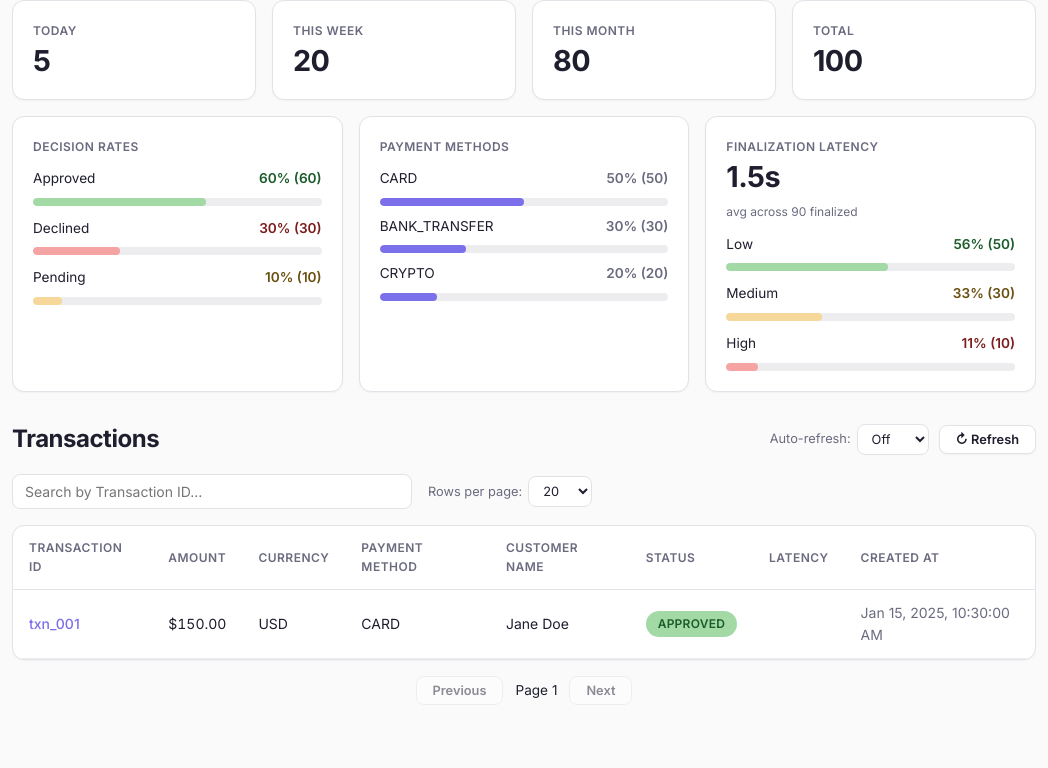
Scenario: TransactionList › shows 'Transaction not found' on 404 search result
Check: the link "txn_001" is shown, box [29,615,80,632]
Type "txn_missing" into the field labelled "Search by Transaction ID" at (212, 492), box [12,474,412,509]
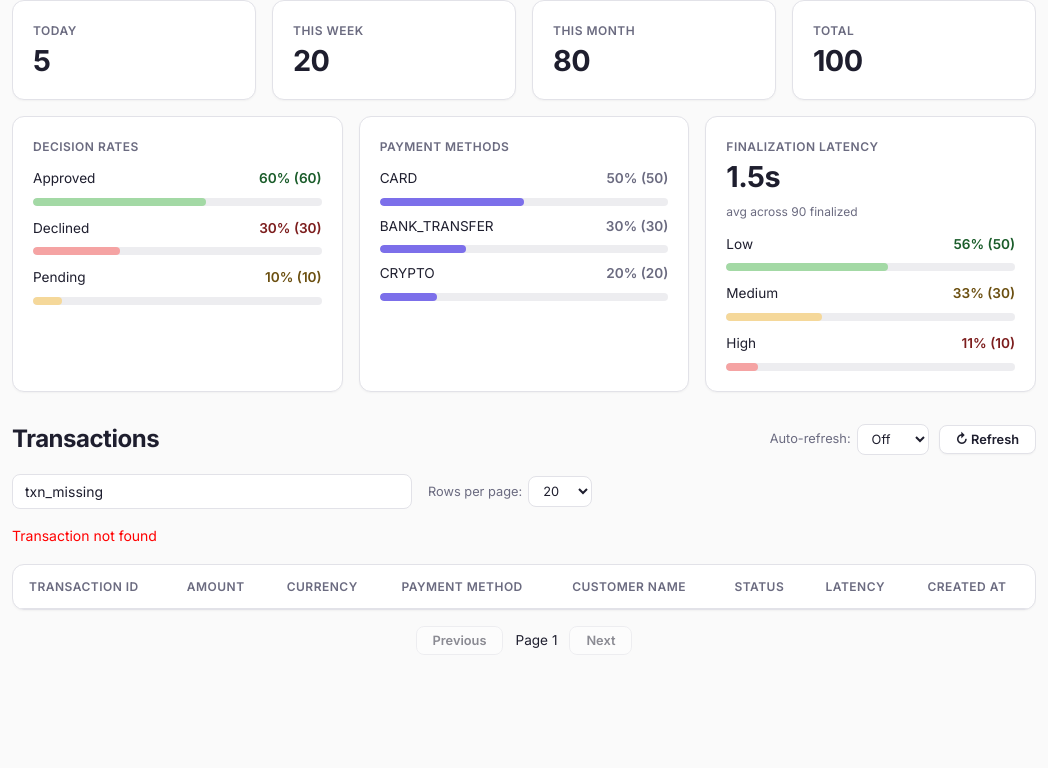
Check: the text "Transaction not found" is shown, box [12,527,157,544]
